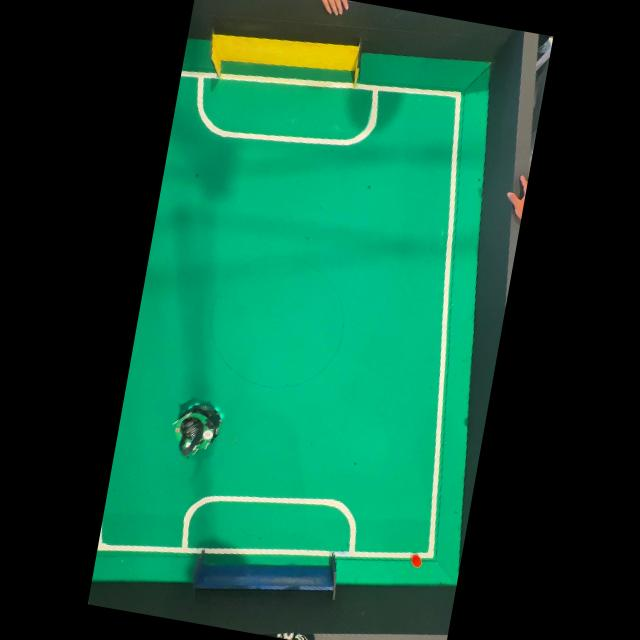goal: (210, 33, 360, 87), (193, 550, 336, 599)
robot: (172, 402, 221, 456)
